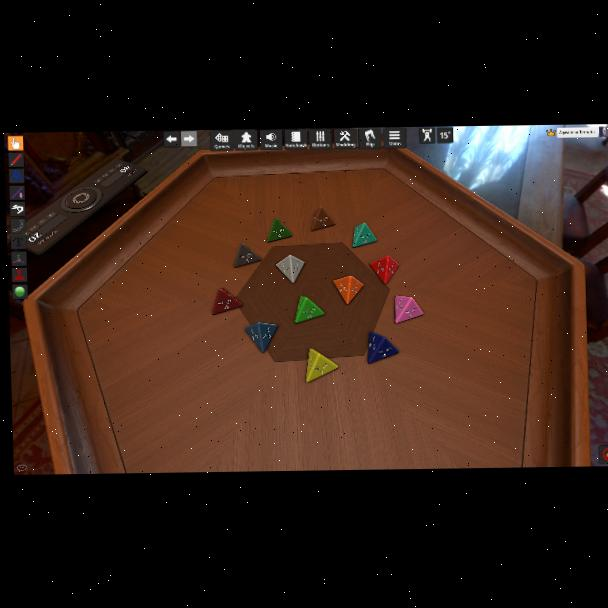d4: (304, 348, 338, 383), (244, 322, 278, 353), (369, 331, 400, 364), (332, 275, 361, 305), (276, 255, 305, 285), (211, 288, 241, 316), (369, 255, 397, 284), (233, 242, 263, 269), (294, 297, 323, 324), (396, 295, 423, 323), (267, 217, 293, 243), (351, 222, 375, 247), (310, 206, 333, 231)
